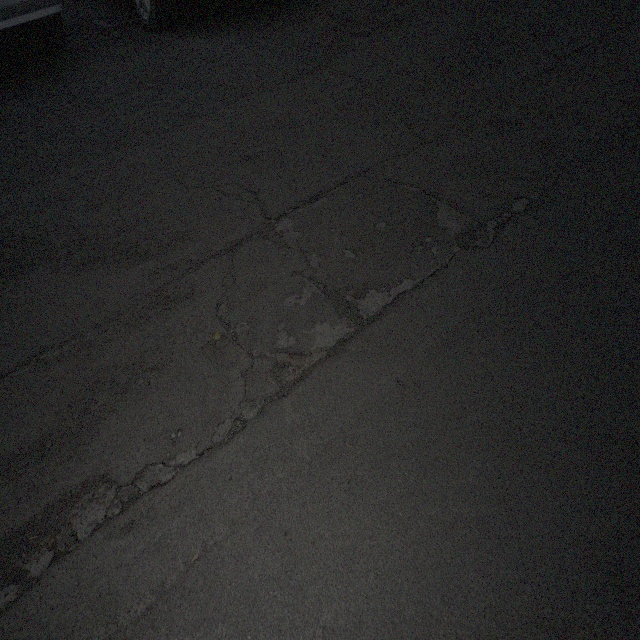pothole: (272, 335, 333, 397)
